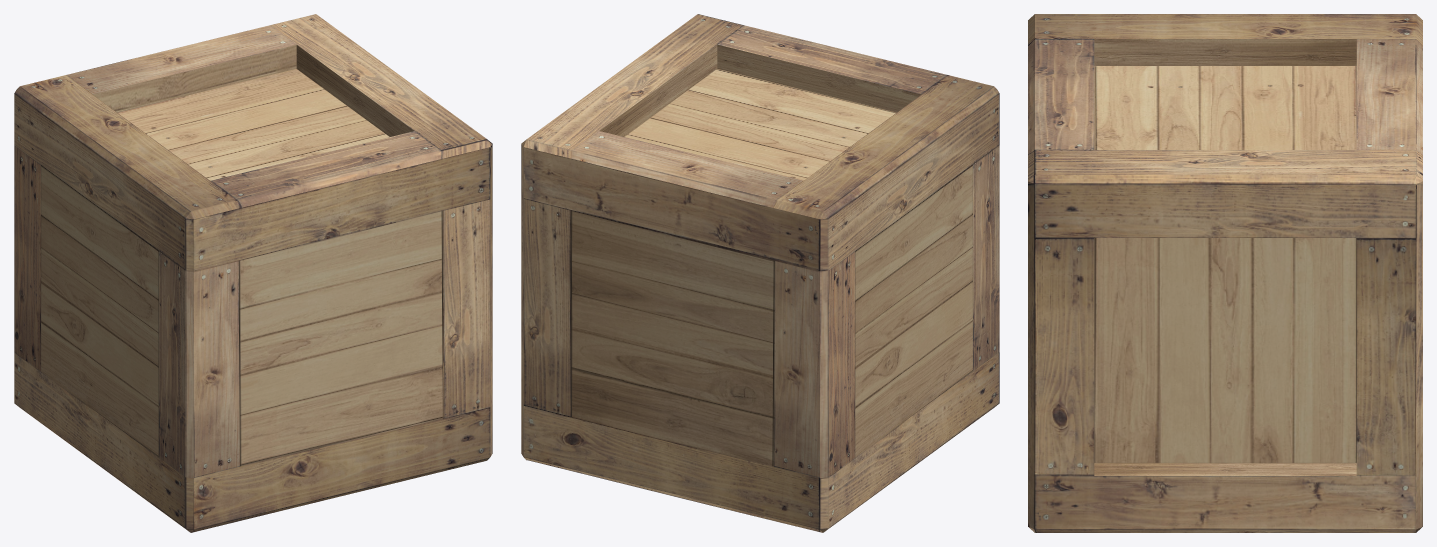
The model's file is ContainerCounter.fbx.
The picture shows the model from 3 angles, left to right: view 1: azimuth 30°, elevation 25°; view 2: azimuth 150°, elevation 25°; view 3: azimuth 270°, elevation 25°; orthographic projection. The views are drawn at different scales.
Parts seen in each view (by area): view 1: Container; view 2: Container; view 3: Container.
Boxes of the visible parts, bbox=[...] form: Container: bbox=[14, 14, 492, 532]; Container: bbox=[521, 14, 999, 532]; Container: bbox=[1028, 14, 1422, 532].
Bounding box in the file's own units: 100 × 100 × 100.
